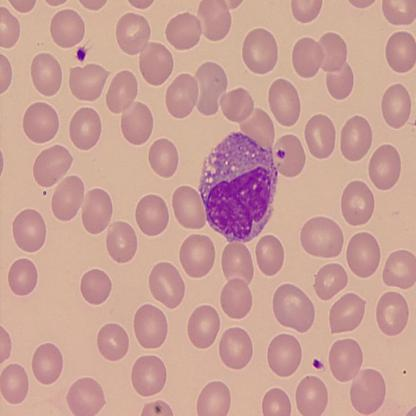Monocyte: (194, 128, 281, 246)
